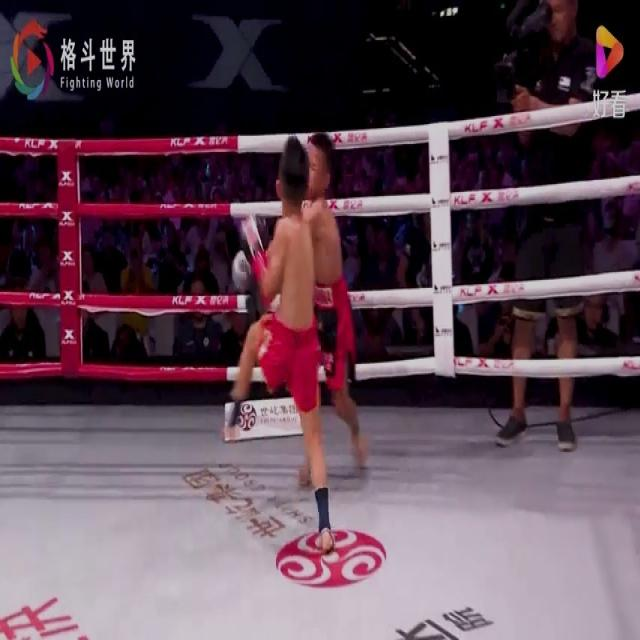fight: (214, 128, 373, 557)
